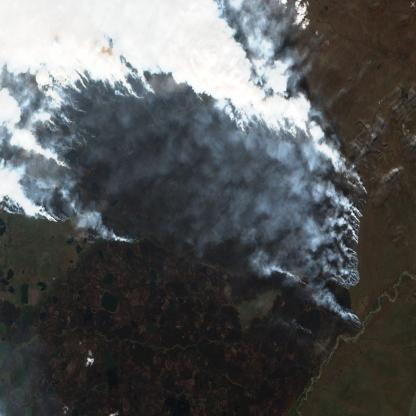fire: (0, 42, 416, 327)
